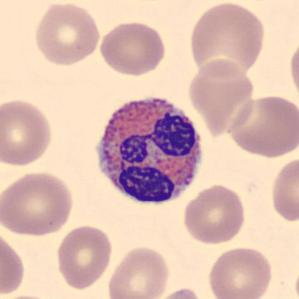Eosinophil: (87, 88, 210, 213)
RBC: (186, 0, 268, 80), (185, 55, 256, 137), (1, 169, 76, 238), (225, 92, 298, 159), (32, 0, 102, 68), (180, 182, 248, 245), (54, 222, 115, 291), (97, 19, 167, 77), (0, 96, 55, 168), (206, 244, 274, 299), (105, 244, 172, 299), (268, 155, 299, 224), (0, 227, 28, 297), (286, 36, 299, 104), (150, 286, 207, 299), (0, 292, 63, 299), (293, 258, 299, 299)
